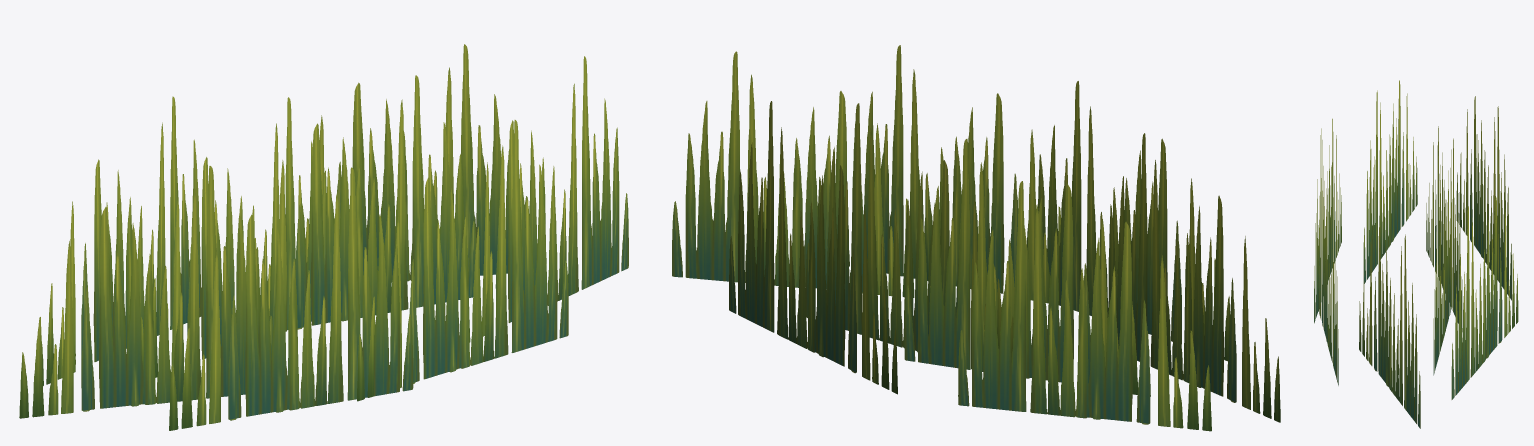
The model's file is GrassGroup.fbx.
3 views of the same model, side by side, from view 1: azimuth 30°, elevation 25°; view 2: azimuth 150°, elevation 25°; view 3: azimuth 270°, elevation 25° (orthographic). The views are drawn at different scales.
Visible parts, largest first — view 1: pPlane76, pPlane74, pPlane75, pPlane79, pPlane73, pPlane77, pPlane78, pPlane80; view 2: pPlane78, pPlane77, pPlane73, pPlane80, pPlane74, pPlane75, pPlane79, pPlane76; view 3: pPlane77, pPlane73, pPlane74, pPlane78, pPlane80, pPlane76, pPlane75, pPlane79.
Part boxes in pixels (bbox=[...]): pPlane76: bbox=[169, 167, 413, 430]; pPlane74: bbox=[19, 166, 273, 418]; pPlane75: bbox=[357, 120, 568, 401]; pPlane79: bbox=[254, 75, 476, 331]; pPlane73: bbox=[458, 56, 628, 342]; pPlane77: bbox=[305, 44, 529, 282]; pPlane78: bbox=[41, 96, 201, 385]; pPlane80: bbox=[141, 97, 326, 377]; pPlane78: bbox=[958, 181, 1211, 431]; pPlane77: bbox=[729, 101, 897, 394]; pPlane73: bbox=[672, 51, 925, 297]; pPlane80: bbox=[904, 139, 1150, 396]; pPlane74: bbox=[1108, 133, 1280, 422]; pPlane75: bbox=[849, 45, 1060, 304]; pPlane79: bbox=[805, 103, 1013, 369]; pPlane76: bbox=[1027, 81, 1230, 361]; pPlane77: bbox=[1451, 196, 1518, 399]; pPlane73: bbox=[1359, 224, 1420, 428]; pPlane74: bbox=[1363, 80, 1417, 283]; pPlane78: bbox=[1456, 96, 1511, 300]; pPlane80: bbox=[1426, 126, 1462, 331]; pPlane76: bbox=[1314, 118, 1341, 323]; pPlane75: bbox=[1318, 181, 1338, 385]; pPlane79: bbox=[1433, 170, 1452, 375].
Bounding box in the file's own units: 2.6 × 1 × 0.9902.
